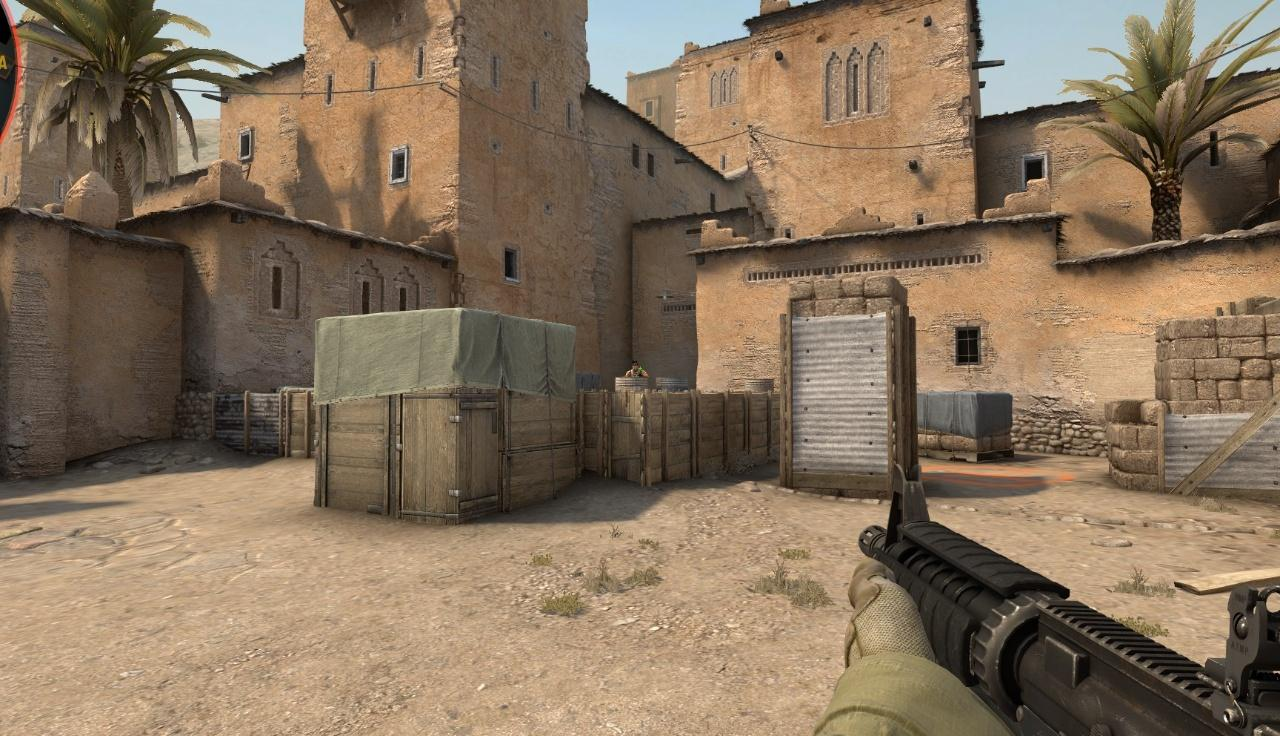rifle: (812, 461, 1280, 736)
tt: (625, 361, 648, 380)
tthead: (632, 362, 638, 371)
